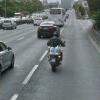Motorcycle: (39, 32, 73, 74)
